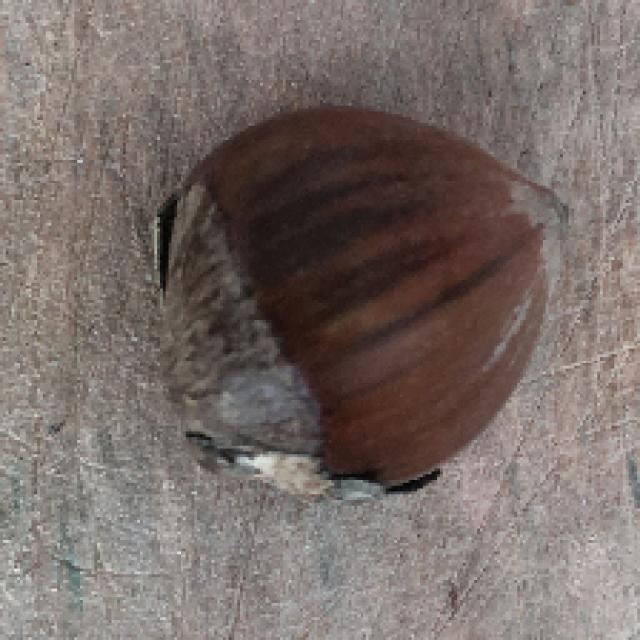damagedHazelnut: (149, 102, 570, 512)
